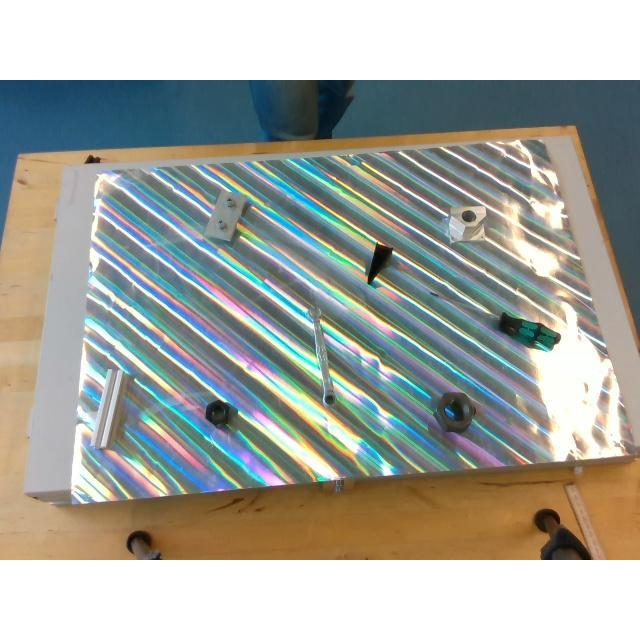F20_20_G: (93, 367, 123, 447)
M20: (206, 400, 234, 424)
M30: (434, 392, 474, 432)
Screwdriver: (428, 289, 564, 347)
Wrench: (306, 306, 338, 408)
